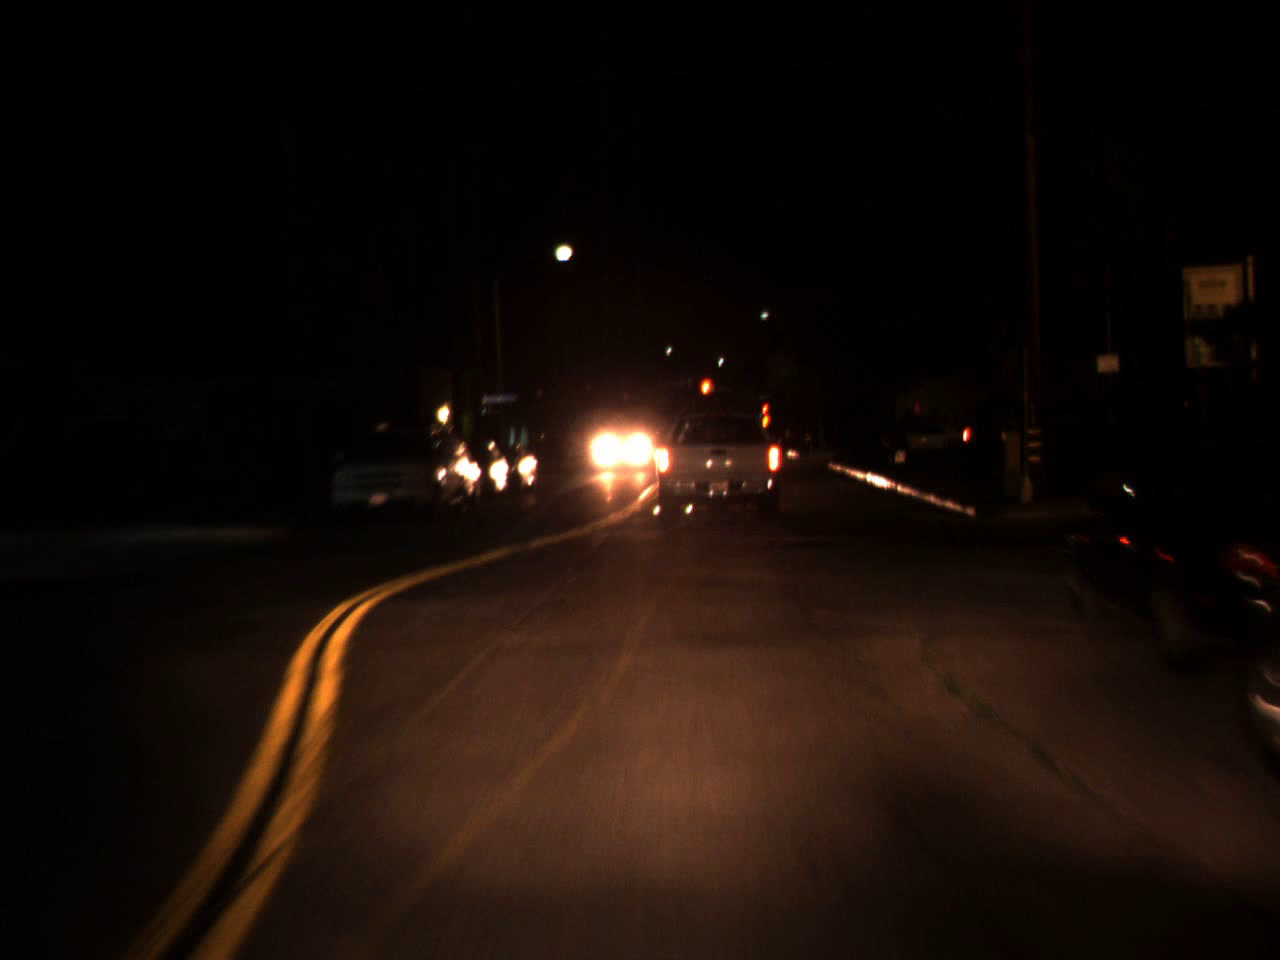stop: (698, 376, 714, 413), (762, 404, 768, 422)
